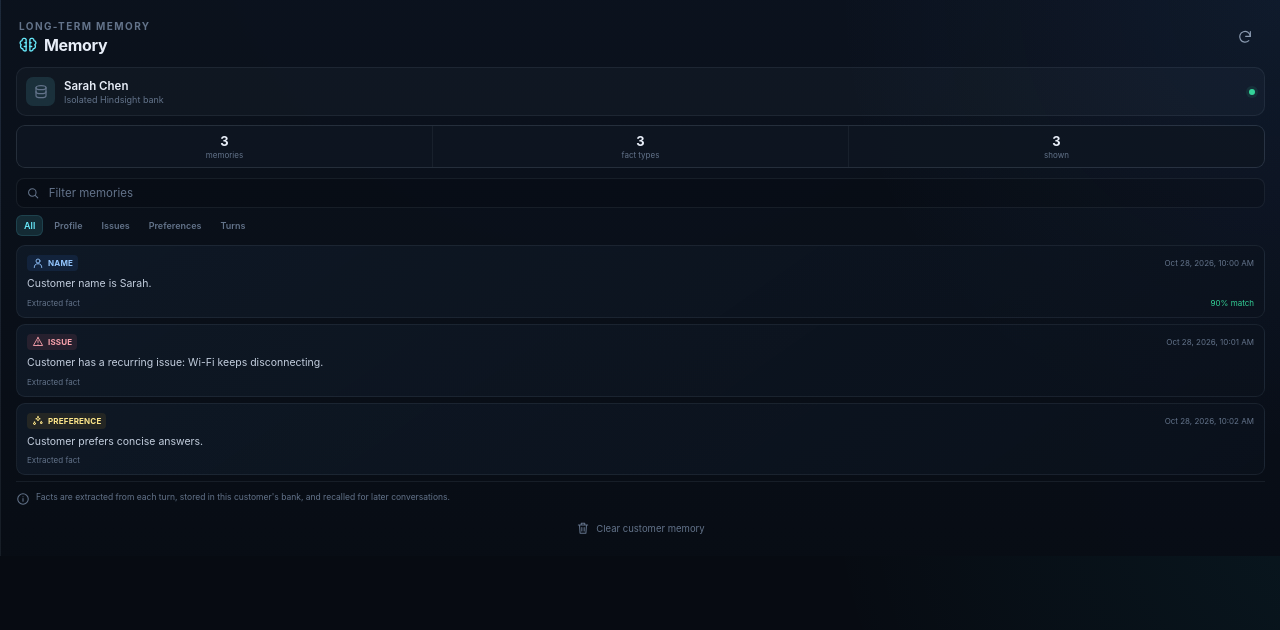
Scenario: MemoryPanel › shows memory cards and filters by category
The image size is (1280, 630).
expect the text "Customer name is Sarah." is shown: met, box [27, 277, 151, 290]
Click the tab "Issues". click: (116, 226)
box: [94, 215, 138, 236]
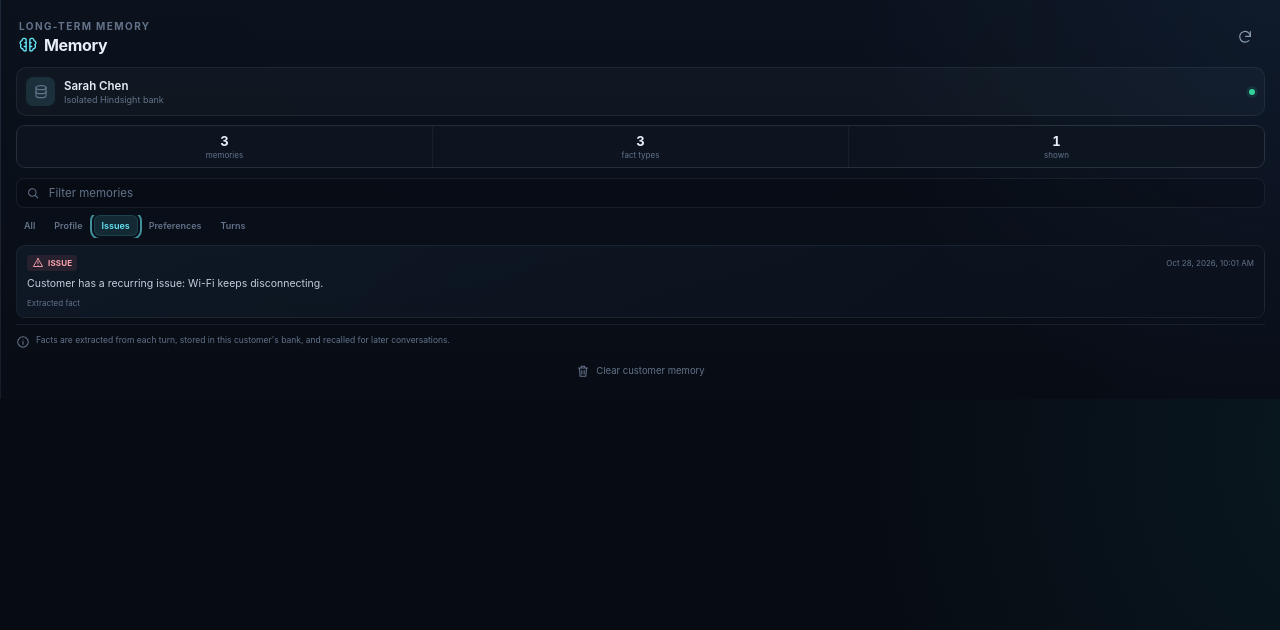
expect the text "Customer has a recurring issue: Wi-Fi keeps disconnecting." is shown: met, box [27, 277, 323, 290]
expect the text "Customer name is Sarah." is gone: met
